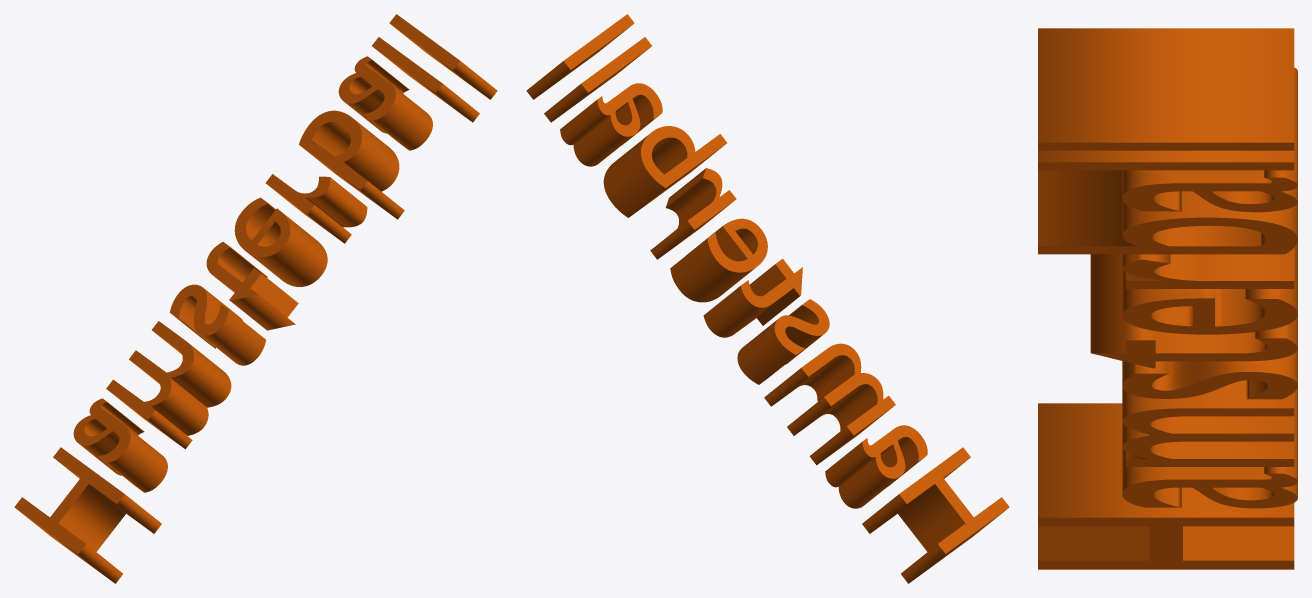
3 views of the same model, side by side, from view 1: azimuth 30°, elevation 25°; view 2: azimuth 150°, elevation 25°; view 3: azimuth 270°, elevation 25° (orthographic). The views are drawn at different scales.
Parts seen in each view (by area): view 1: Text_Text_Text_Hamster; view 2: Text_Text_Text_Hamster; view 3: Text_Text_Text_Hamster.
Part boxes in pixels (x1,y1,x2,y2): Text_Text_Text_Hamster: (14,14,497,583); Text_Text_Text_Hamster: (526,14,1009,583); Text_Text_Text_Hamster: (1038,28,1297,569).
Bounding box in the file's own units: 8.14 × 8.14 × 2.18.
